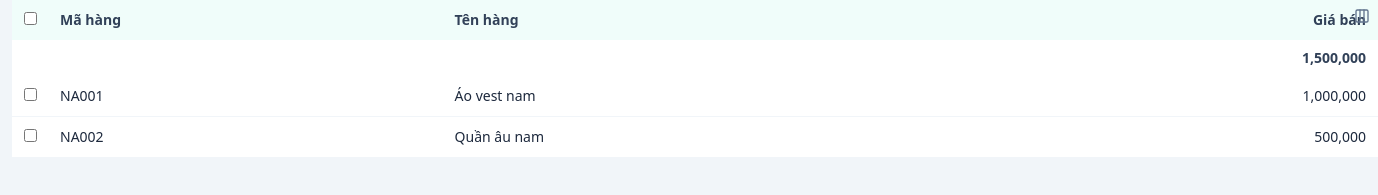
Test case: row checkbox does not expand the row
Click the checkbox named "Chọn dòng" next to "NA001" at (30, 94), box 24,88 -> 36,101
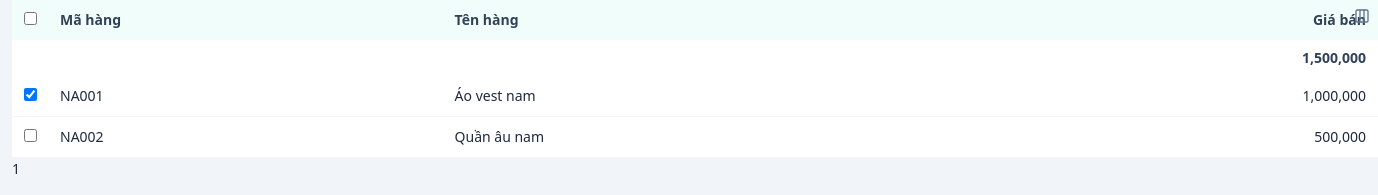
expect the text with test id "sel" reads "1": met, box 12,159 -> 20,178
